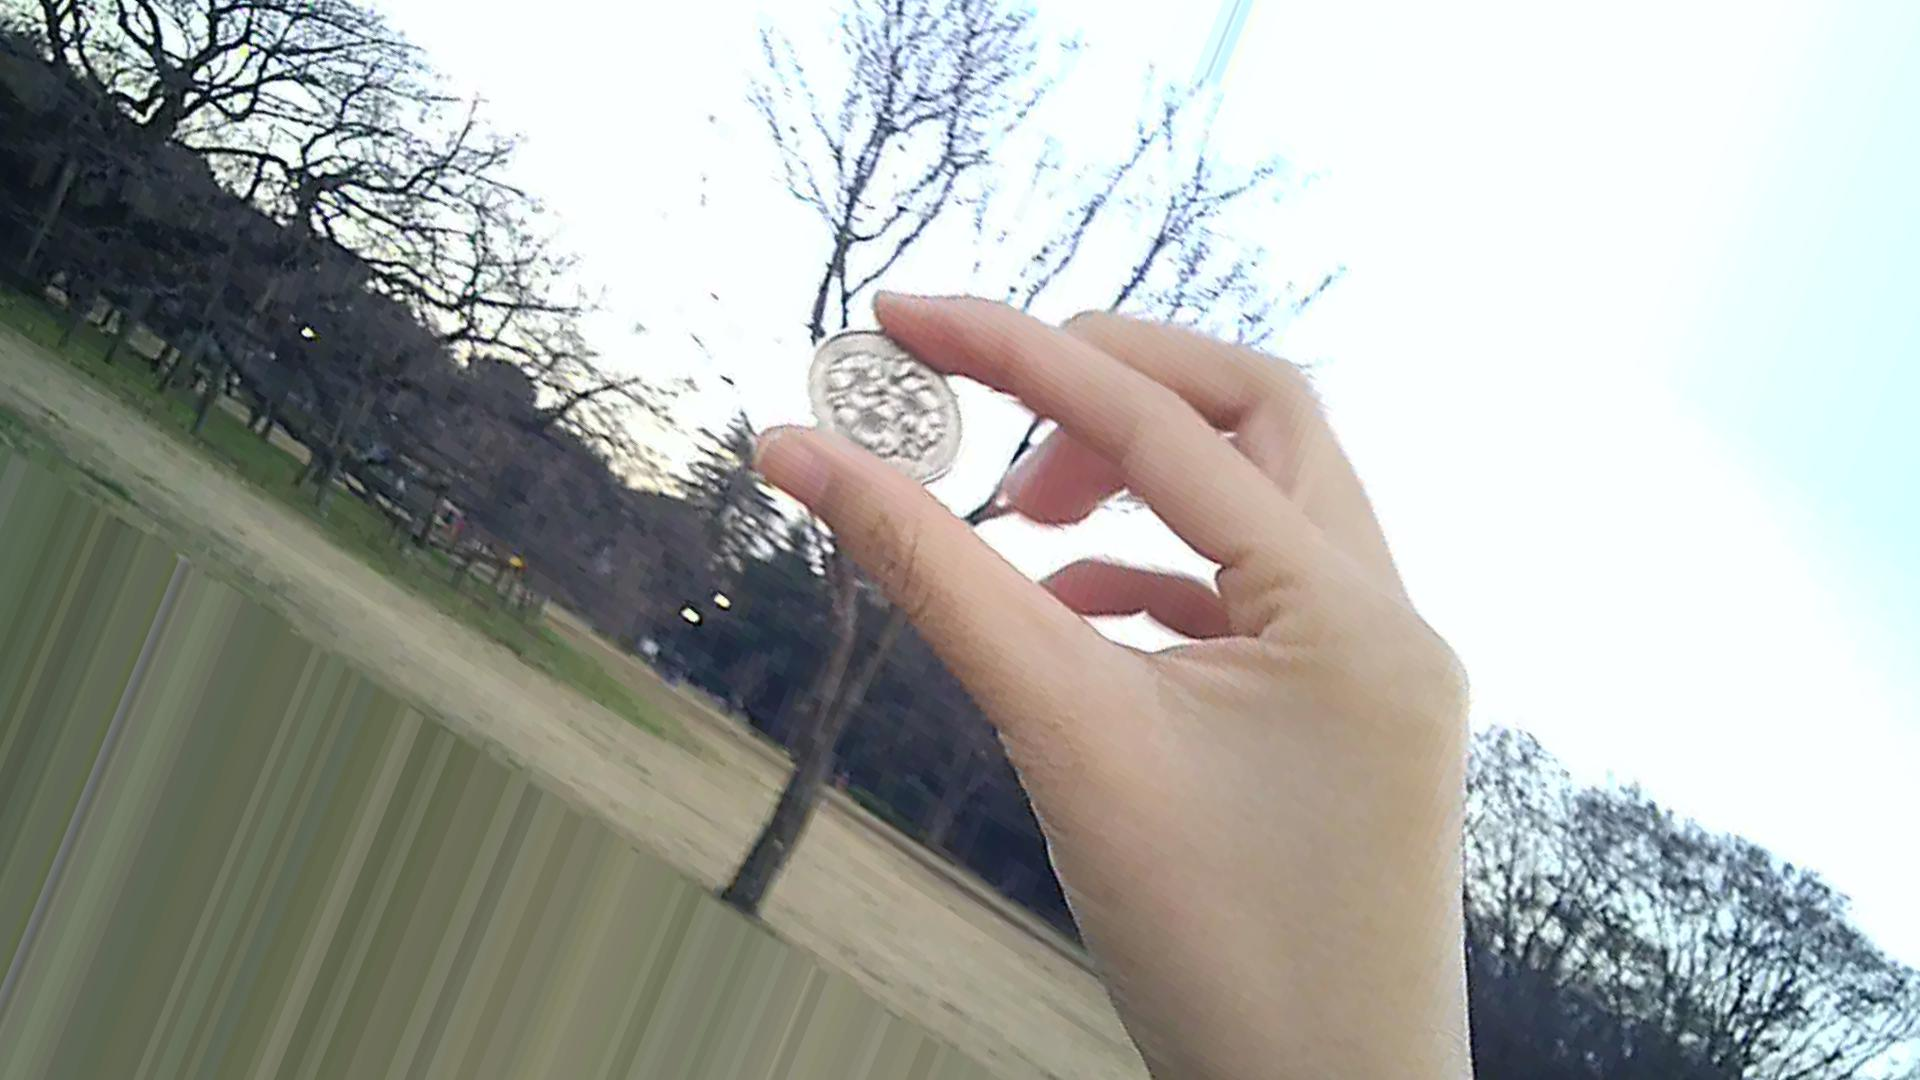100 Yen: (787, 338, 964, 498)
